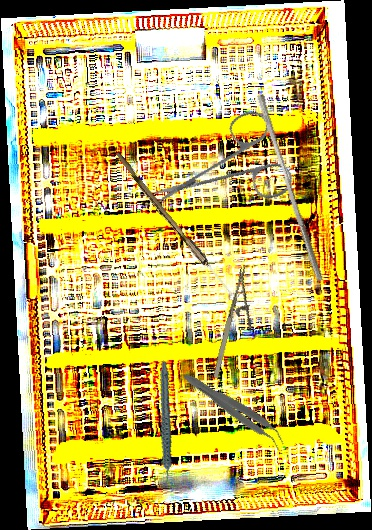Handpiece: (135, 360, 193, 490)
Iris Scissors: (150, 87, 313, 247)
Needle Holder: (209, 265, 268, 384)
Pusher: (250, 93, 331, 283)
Surgical Spoon: (112, 151, 243, 306)
Tissue Forceps: (178, 368, 290, 452)
